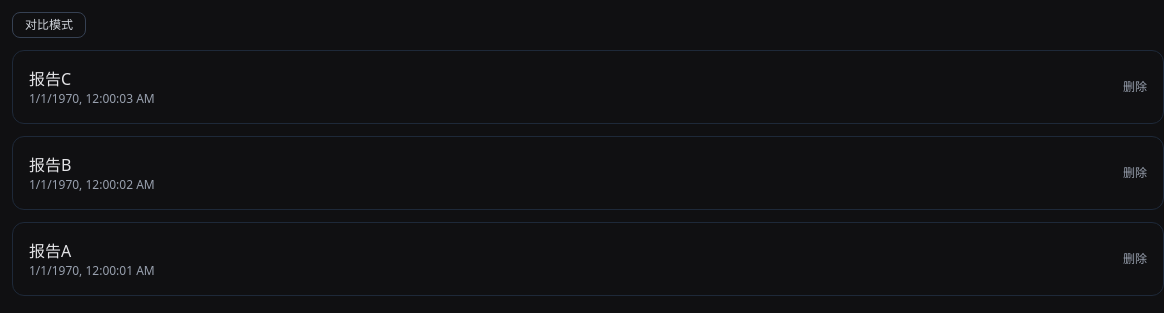
Test: HistoryList：对比模式与 Diff（W21） › 进入对比模式后每行出现勾选框
Click the button "对比模式".
click(49, 25)  # box 12,12 -> 86,38
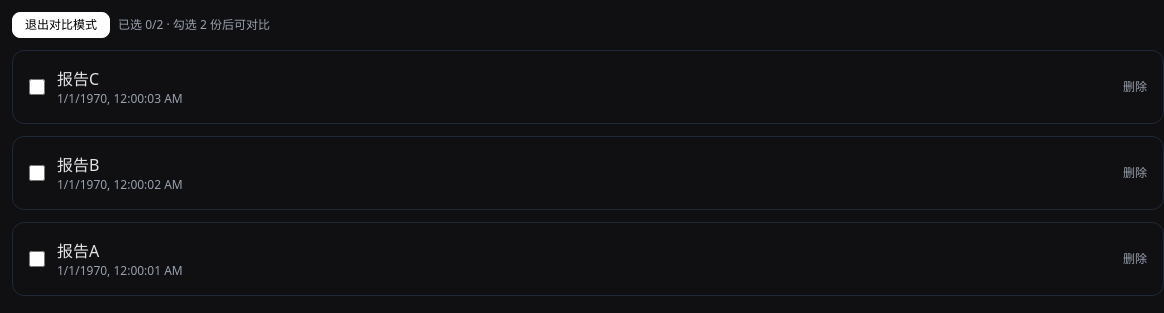
expect the number of checkboxes is 3: met, box 29,79 -> 45,95; 29,165 -> 45,181; 29,251 -> 45,267
expect the text "已选 0/2 · 勾选 2 份后可对比" is shown: met, box 118,17 -> 270,33
